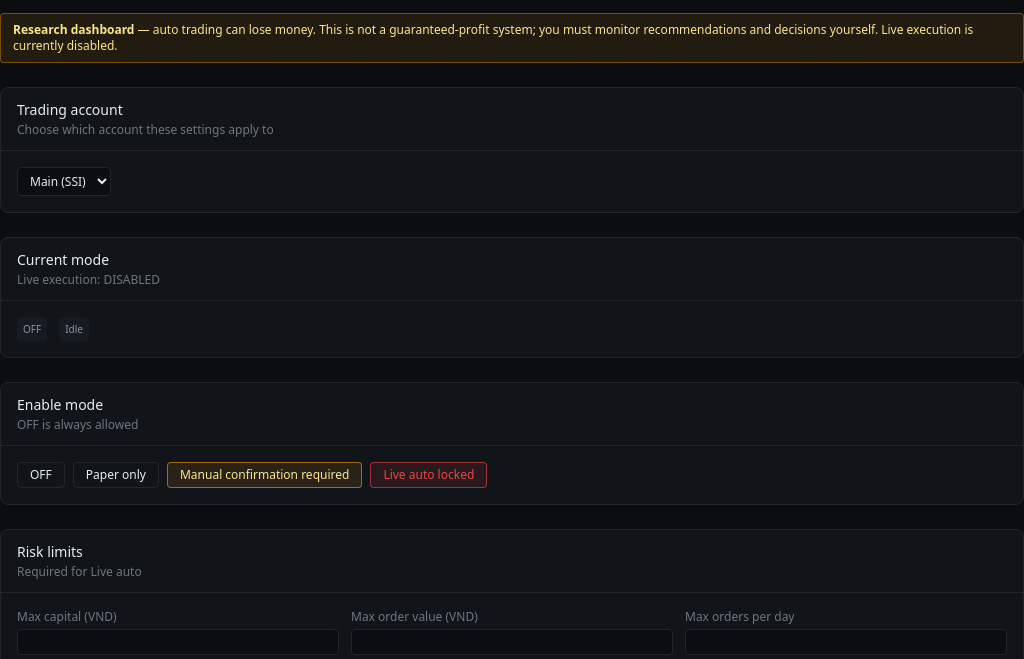
Test: AutoTradePage › performs emergency stop and returns mode to OFF
The image size is (1024, 659).
Click the button with test id "btn-paper": click(116, 475) [73,462,159,488]
(page scrolled)
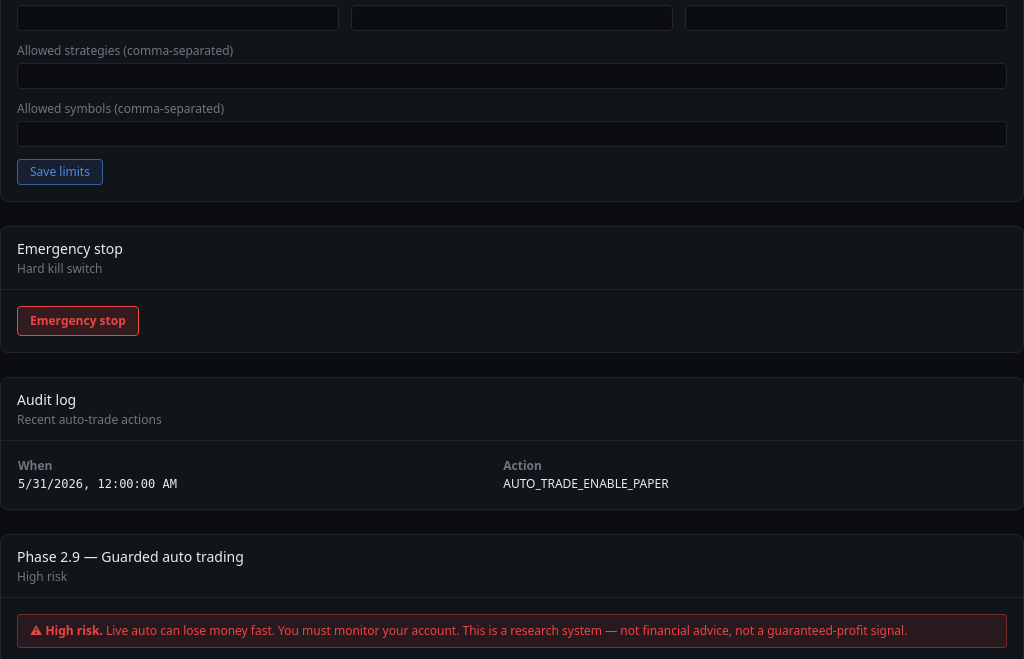
expect the button with test id "btn-emergency-stop" is shown: met
Click the button with test id "btn-emergency-stop": click(78, 321) [17,306,139,336]
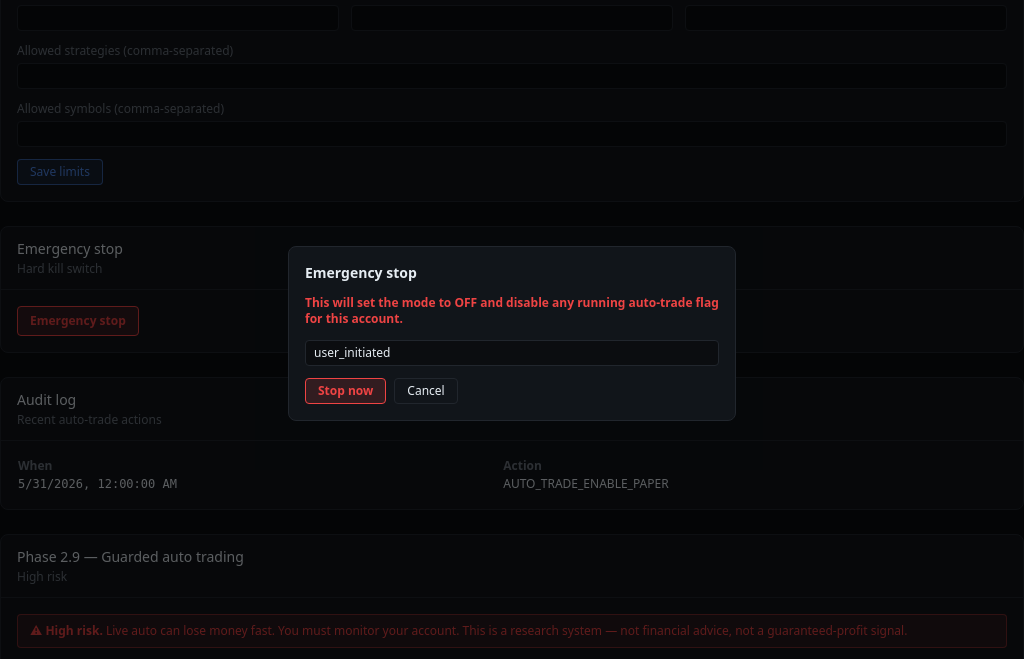
expect the button with test id "stop-confirm" is shown: met
Click the button with test id "stop-confirm": click(346, 390) [305,378,386,404]
(page scrolled)
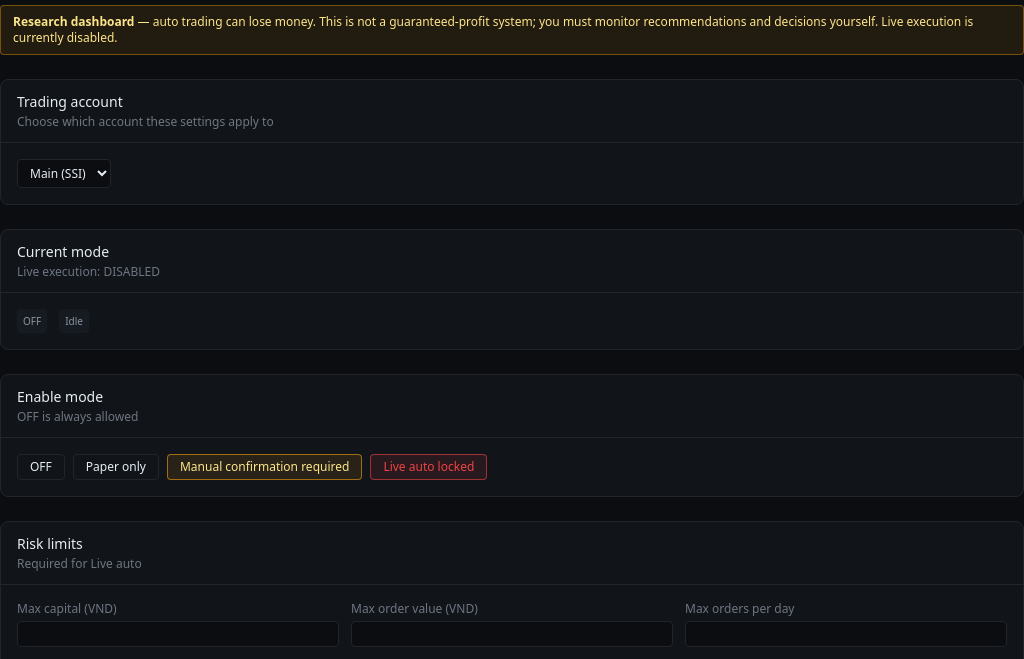
expect the text with test id "current-mode" reads "OFF": met, box [23,314,41,328]
